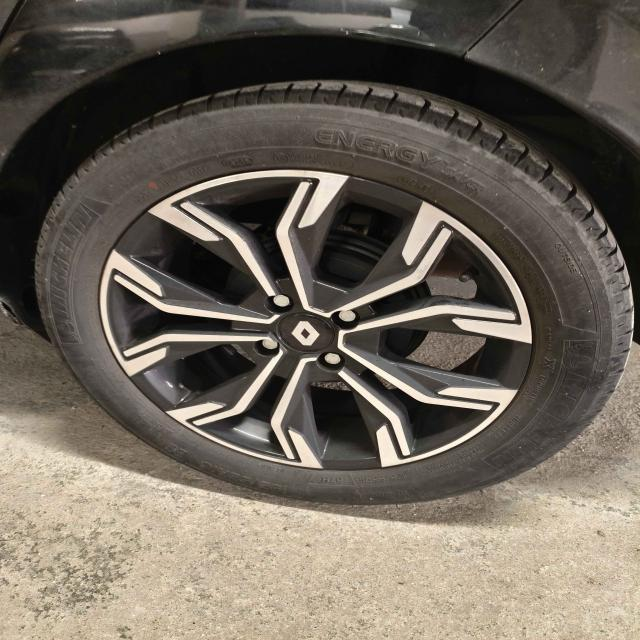jante: (98, 169, 536, 471)
parafuso: (255, 288, 299, 319), (312, 346, 356, 374), (245, 332, 286, 360), (327, 308, 360, 332)
roda: (31, 76, 640, 506)
